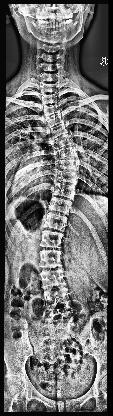Vertebrae: (30, 250, 72, 268), (34, 270, 76, 288), (35, 212, 75, 230), (37, 288, 75, 306), (32, 232, 72, 247), (40, 200, 81, 214), (50, 184, 80, 198), (44, 137, 80, 147), (37, 116, 71, 126), (54, 171, 82, 183), (50, 148, 82, 158), (34, 83, 66, 93), (54, 160, 83, 170), (38, 104, 64, 114), (42, 128, 74, 136), (36, 95, 62, 103)
